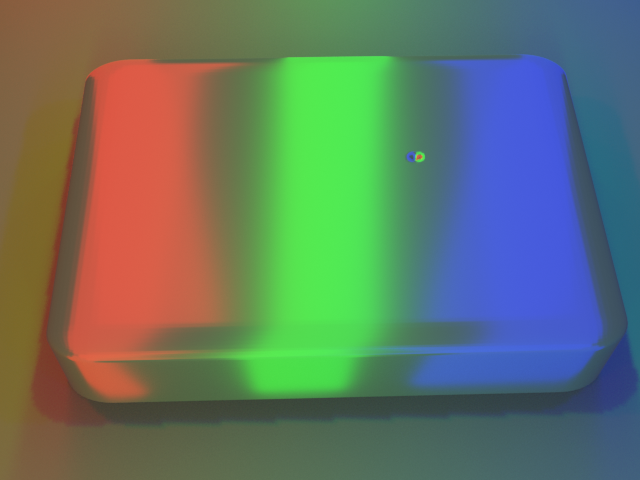dent: (402, 132, 445, 165)
